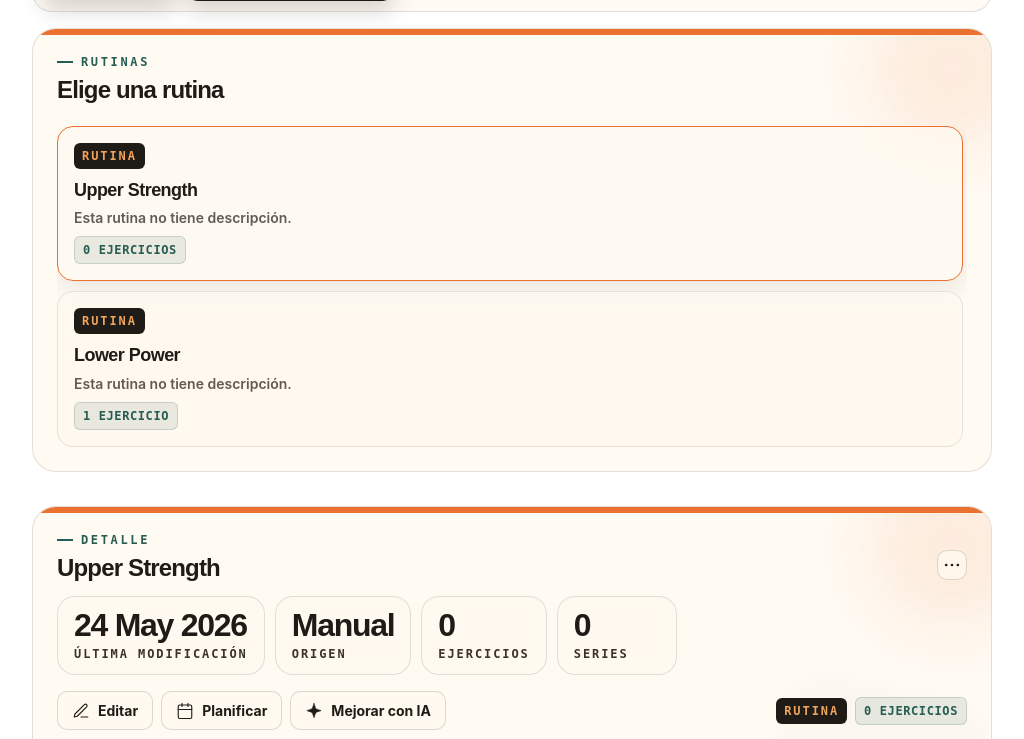
it: UserRoutinesPage › carga el detalle al seleccionar una rutina de la lista
(page scrolled)
Click the heading "Lower Power".
click(127, 355)  # box [74,345,180,365]
(page scrolled)
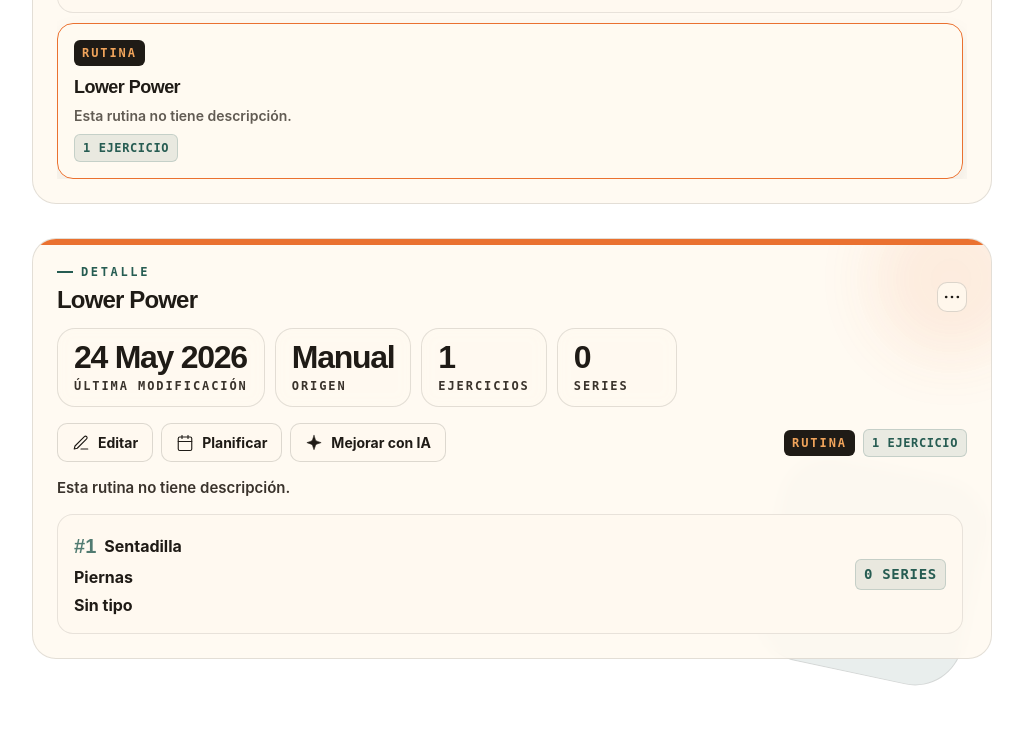
Check: the text "Sentadilla" is shown, box [104,534,182,558]
